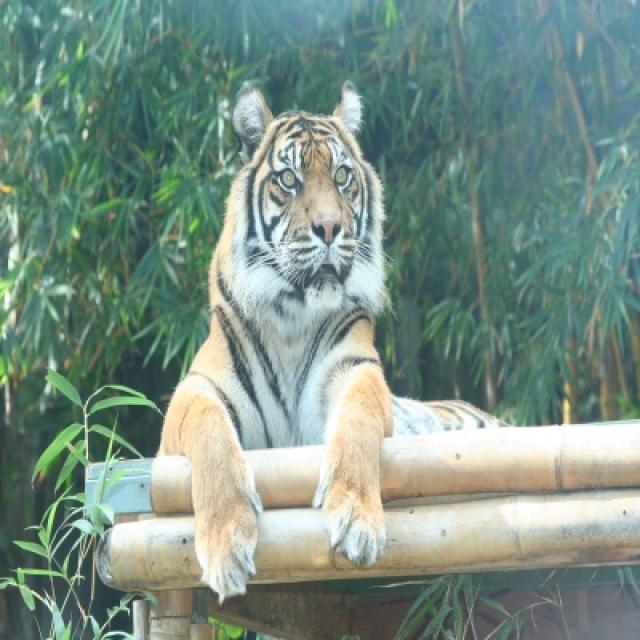Tiger: (161, 75, 526, 598)
